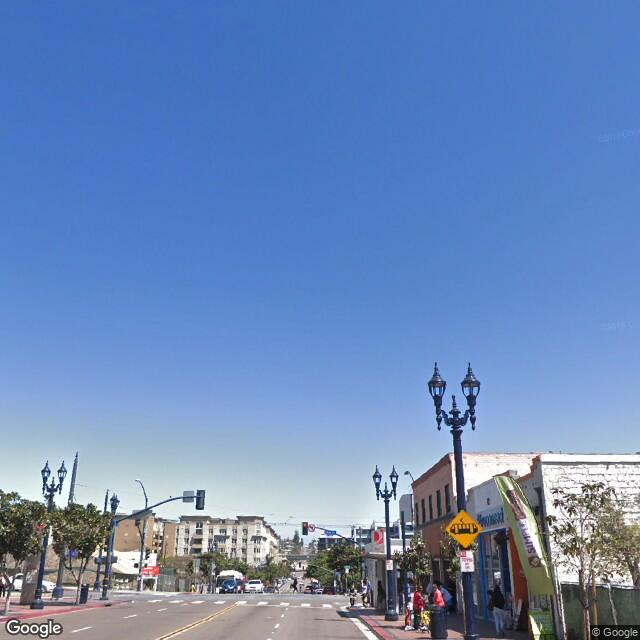light: (427, 372, 449, 412), (461, 369, 480, 406), (373, 466, 385, 492)
